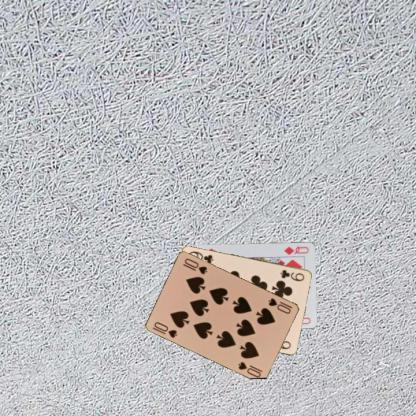10s: (266, 295, 294, 315), (152, 319, 178, 339)
9c: (278, 267, 306, 282)
Qd: (281, 243, 310, 256)
